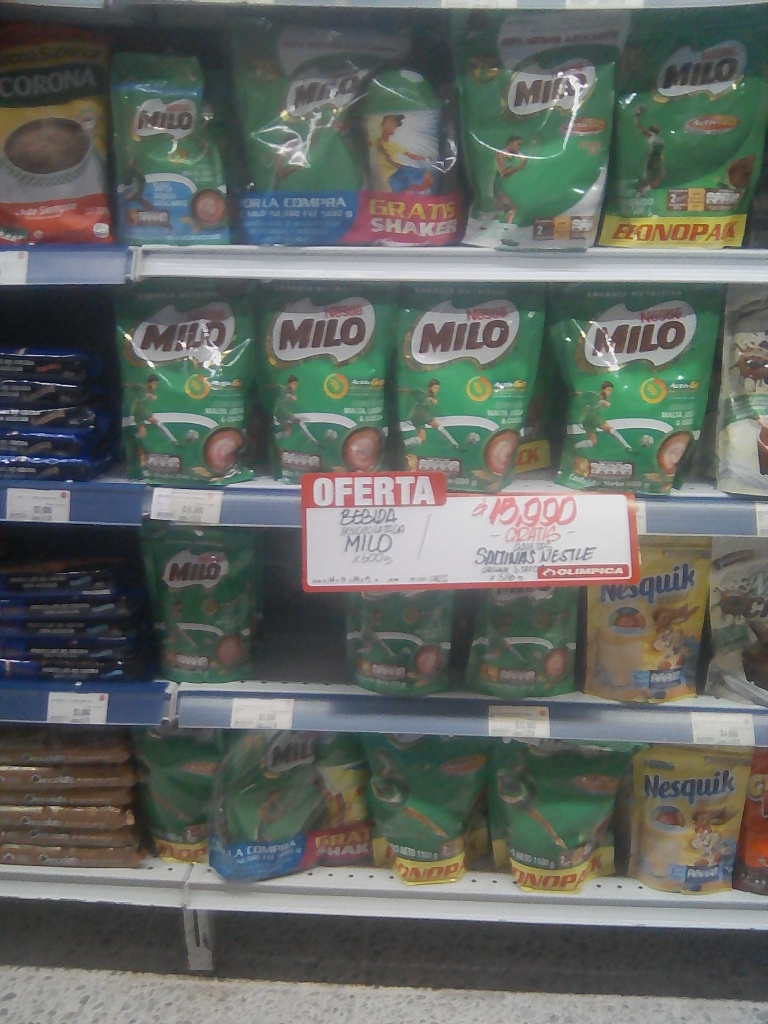COL0170203DYP50000: (600, 13, 764, 247)
COL0170205DYP20000: (105, 50, 240, 243)
COL0170205DYP50000: (223, 26, 371, 208)
